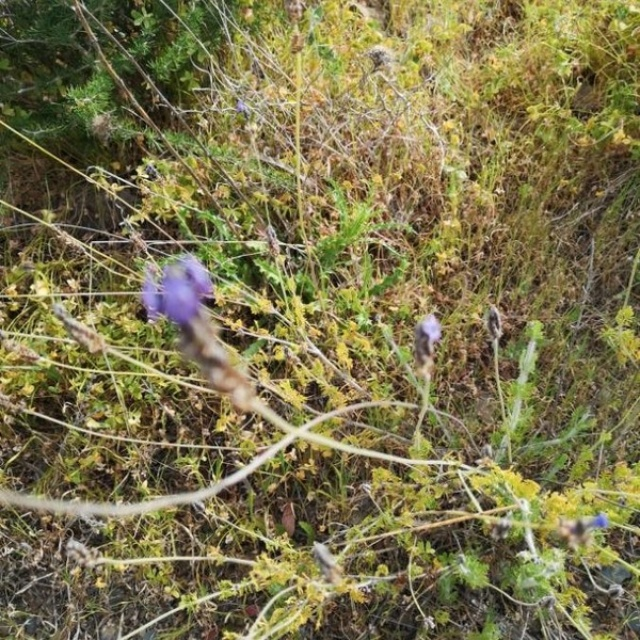obstacle: (137, 90, 531, 590)
